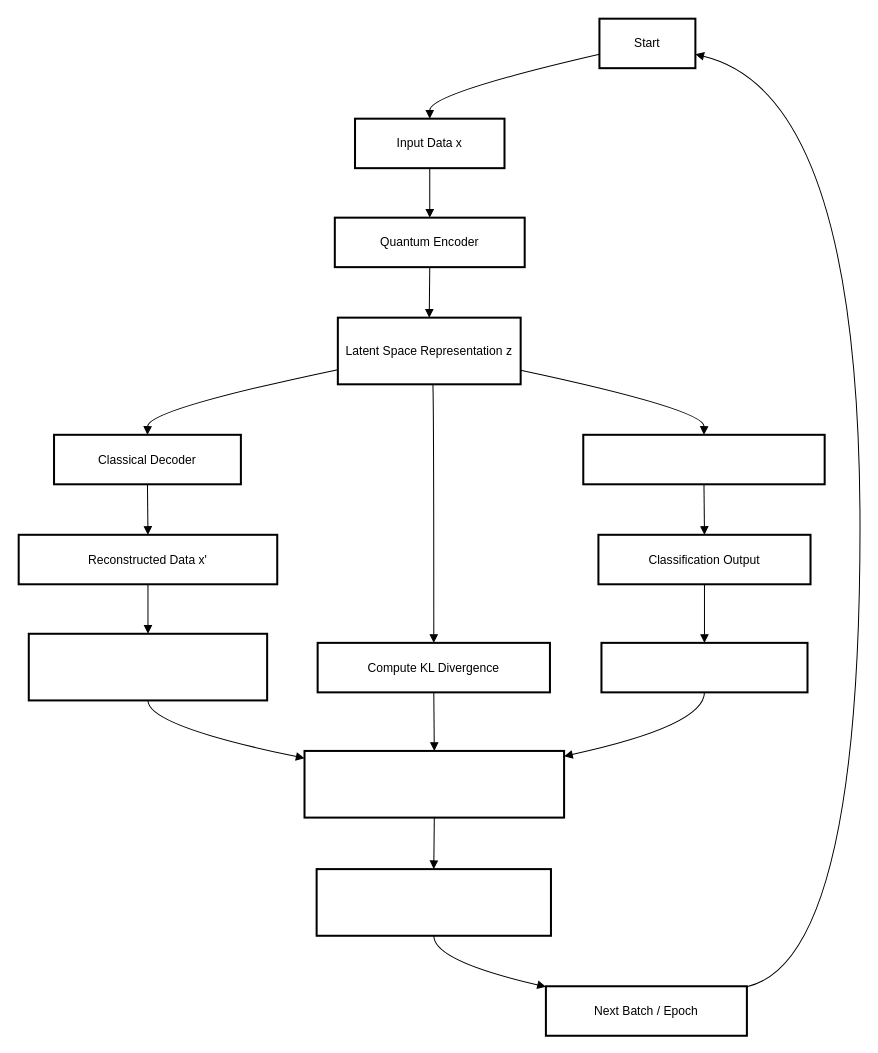
Image size: 878x1053. Some labels were removed from this diagram. Each missing label, with the centre of its shape:
"Backpropagation & Optimization" goes at (433,902).
"Compute Hinge Loss" goes at (704,667).
"Compute Reconstruction Loss" goes at (147,666).
"Embedded SVM Classifier" goes at (703,459).
"Total Loss = Reconstruction Loss + KL + Hinge Loss" goes at (434,783).
